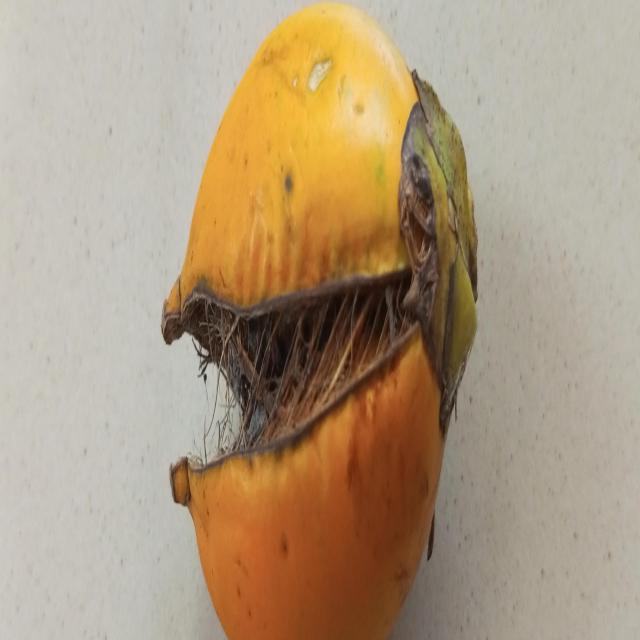damaged: (161, 3, 477, 640)
